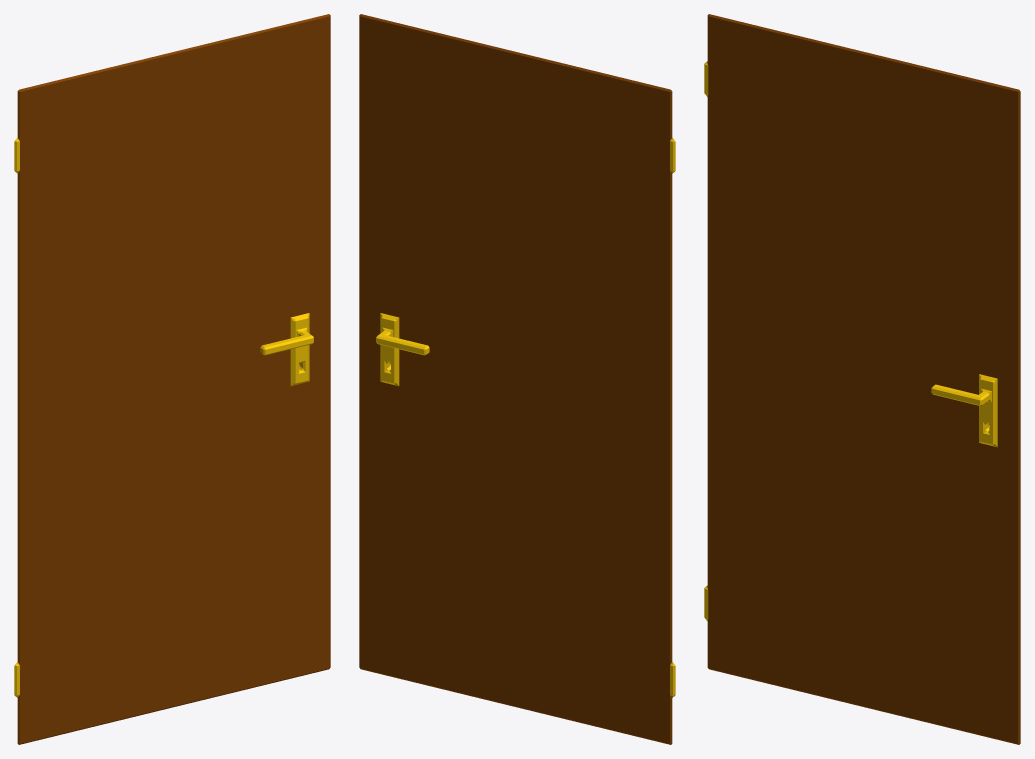
3 renders of one model, left to right at view 1: azimuth 30°, elevation 25°; view 2: azimuth 150°, elevation 25°; view 3: azimuth 330°, elevation 25°, orthographic.
Parts seen in each view (by area): view 1: Cube; view 2: Cube; view 3: Cube.
Part boxes in pixels (box(x1,y1,x2,y2)): Cube: box(14, 14, 330, 744); Cube: box(359, 14, 675, 744); Cube: box(704, 14, 1020, 744).
Size of the model in its own units: 101 by 200 by 13.
